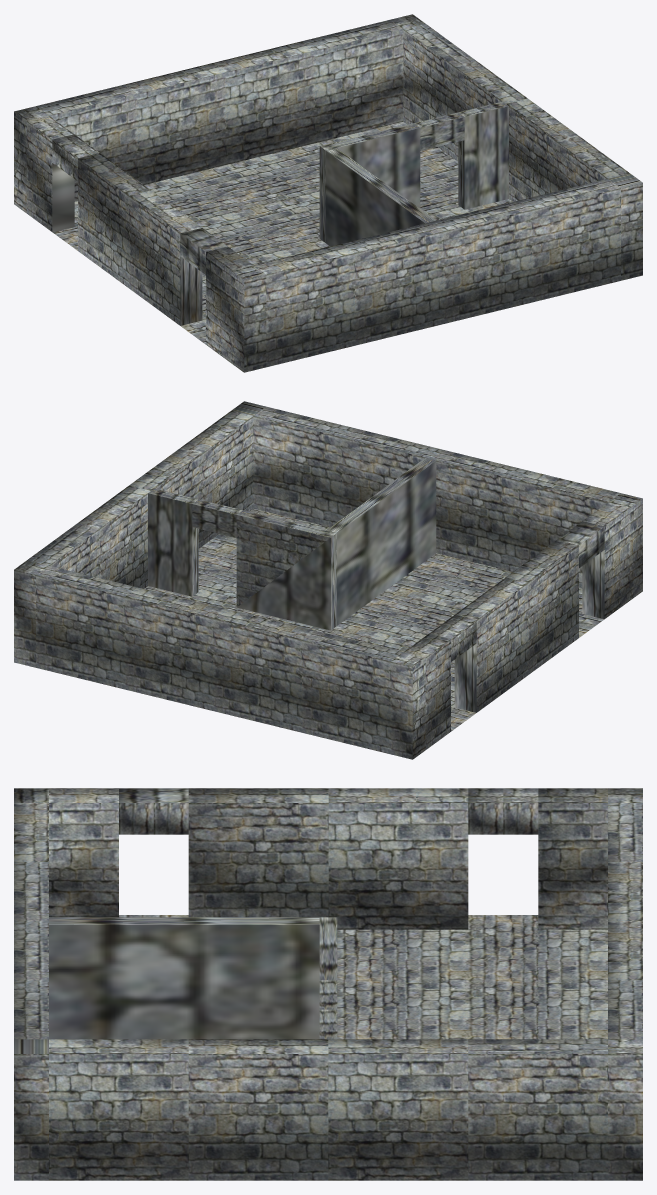
The model's file is SampleRoom.obj.
The picture shows the model from 3 angles, top to bottom: view 1: azimuth 30°, elevation 25°; view 2: azimuth 150°, elevation 25°; view 3: azimuth 270°, elevation 25°; orthographic projection. The views are drawn at different scales.
Visible parts, largest first — view 1: Cube.003; view 2: Cube.003; view 3: Cube.003.
Boxes of the visible parts, x1=… form: Cube.003: x1=14, y1=14, x2=642, y2=372; Cube.003: x1=14, y1=401, x2=642, y2=759; Cube.003: x1=14, y1=788, x2=642, y2=1180.
Size of the model in its own units: 9 by 2 by 9.
Materials: 1 (1 with a texture image).
